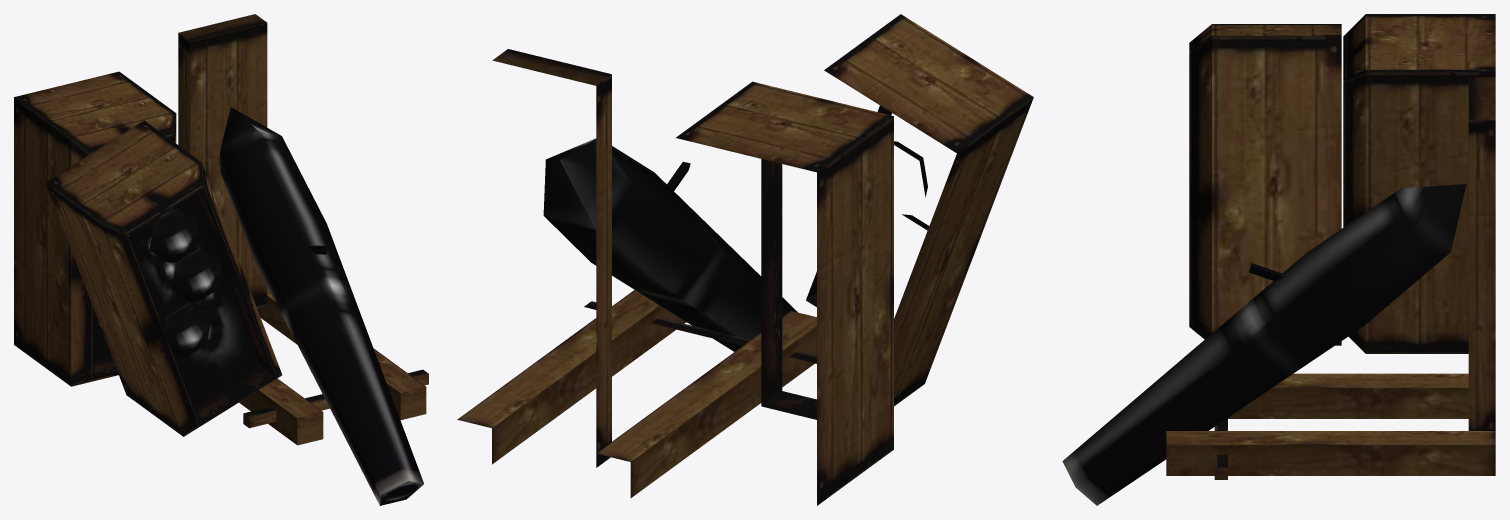
The picture shows the model from 3 angles, left to right: view 1: azimuth 30°, elevation 25°; view 2: azimuth 150°, elevation 25°; view 3: azimuth 270°, elevation 25°; orthographic projection. The views are drawn at different scales.
Visible parts, largest first — view 1: model_Object70; view 2: model_Object70; view 3: model_Object70.
Part boxes in pixels (x1,y1,x2,y2): model_Object70: (14,14,428,505); model_Object70: (457,14,1033,505); model_Object70: (1062,14,1495,505).
Bounding box in the file's own units: 1.32 × 1.36 × 1.33.
Materials: 1 (1 with a texture image).
